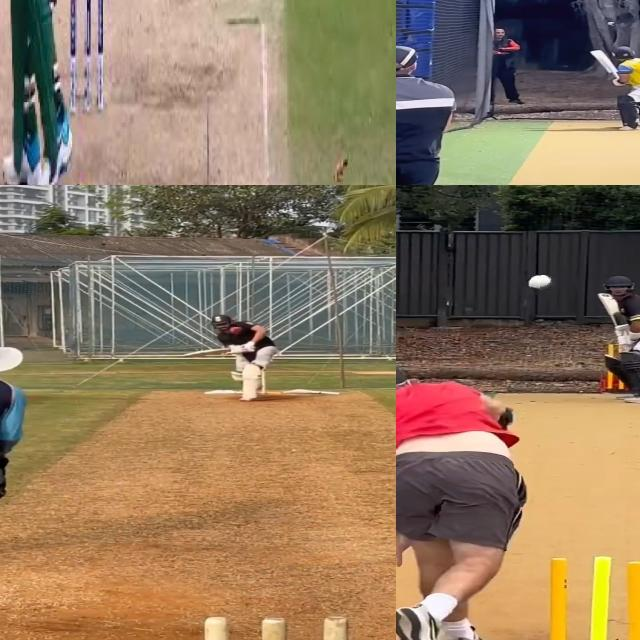Cricket ball: (526, 275, 552, 291), (229, 327, 243, 334), (607, 22, 615, 27)
Stumps: (528, 556, 640, 640)
